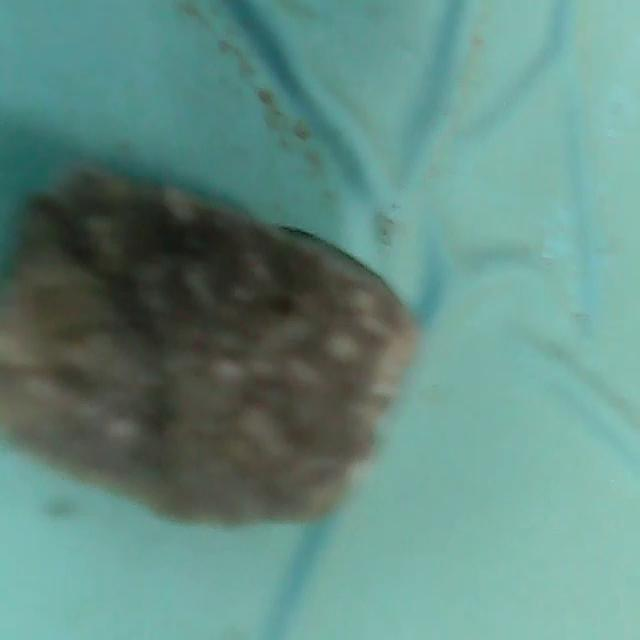rock: (1, 172, 417, 528)
